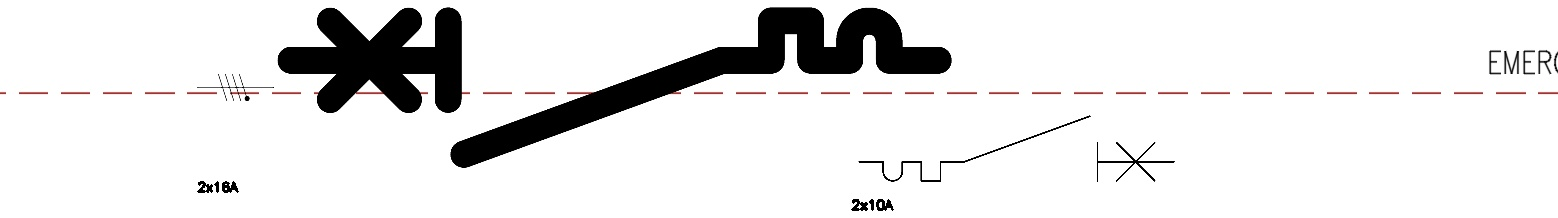interruptor_termomagnetico: (274, 4, 955, 170), (851, 108, 1182, 189)
